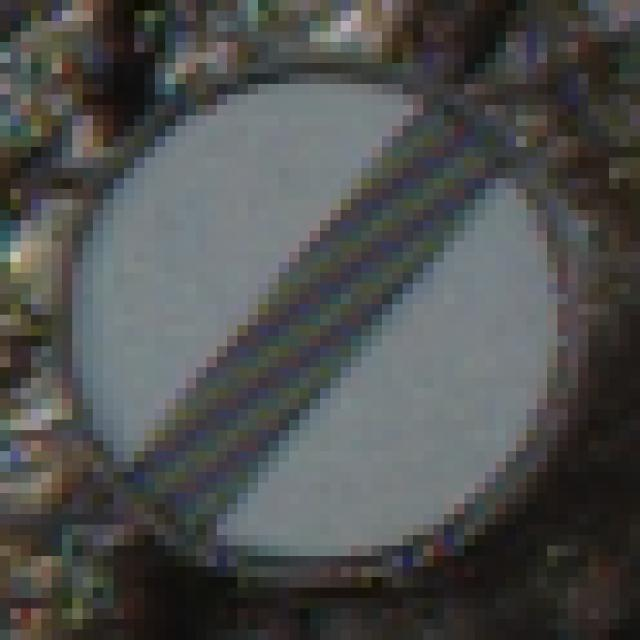restriction ends: (42, 35, 608, 602)
